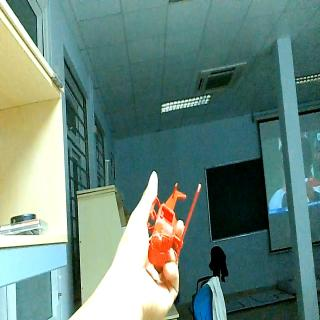Helicopter: (148, 182, 201, 264)
